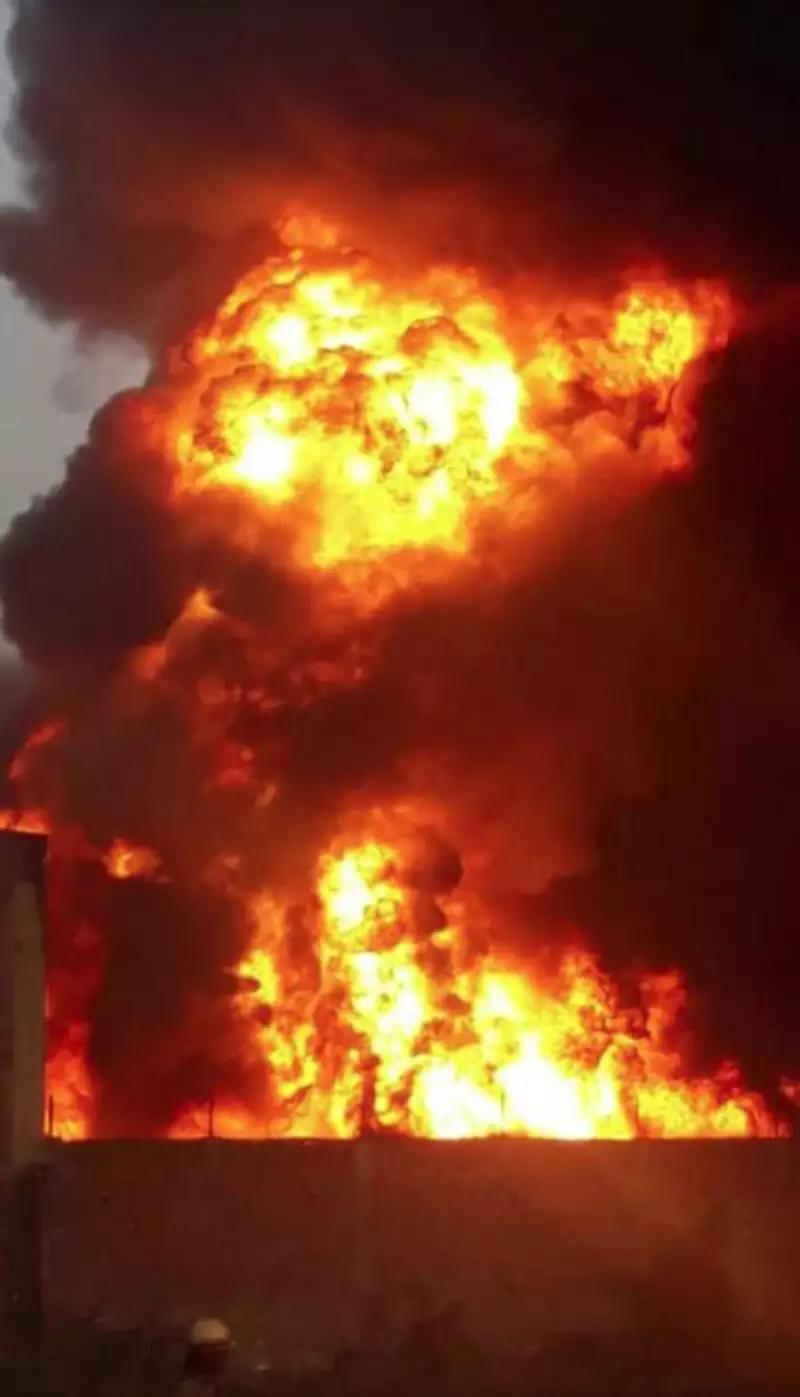Fire: (179, 225, 707, 574), (316, 866, 748, 1140), (231, 909, 348, 1146), (31, 966, 100, 1148)
